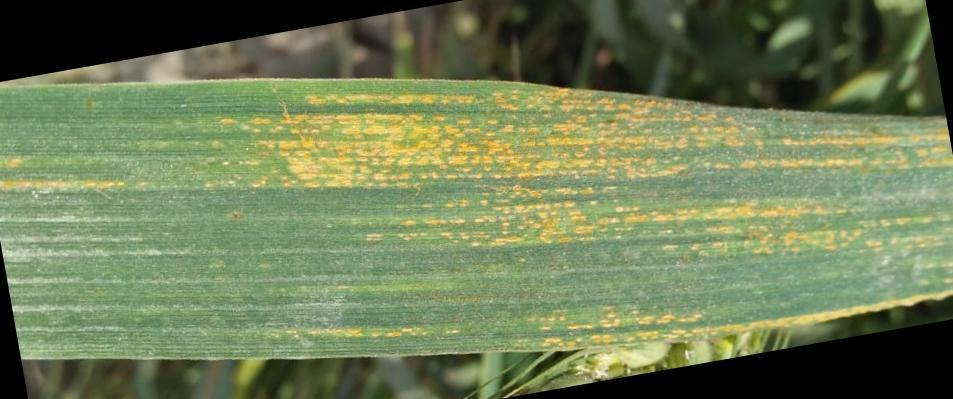Wheat: (233, 97, 599, 253), (569, 102, 866, 259)
